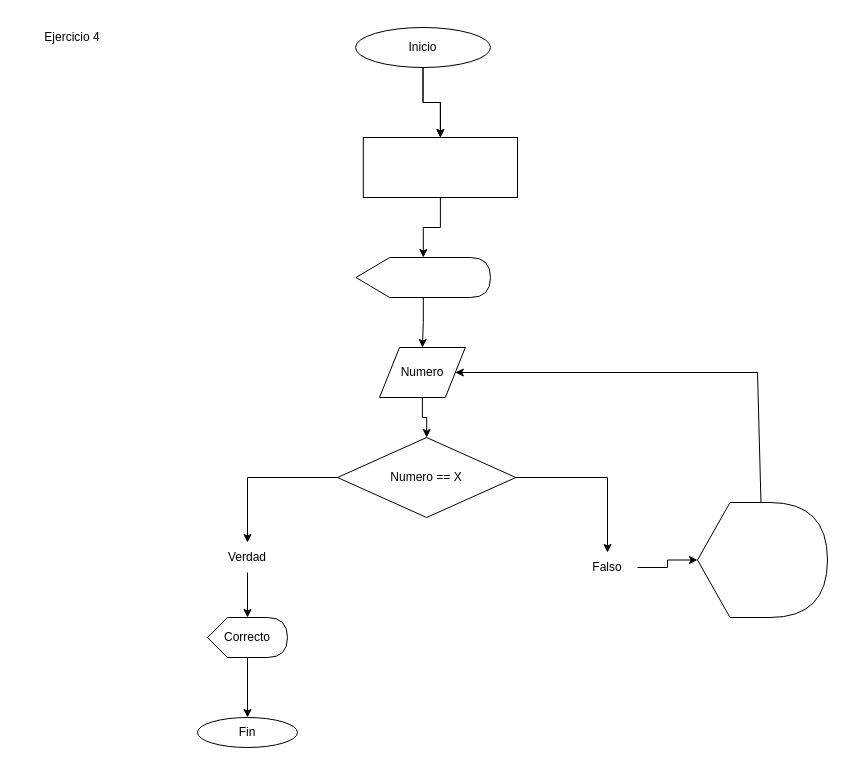
Image size: 845x765. Some labels were removed from this diagram. Each missing label, with the box of its shape:
Incorrecto, por favor volver a intentar: (696, 502, 828, 618)
Inserte numero: (355, 256, 490, 298)
X = numero entre 1 y 10: (362, 136, 518, 198)
